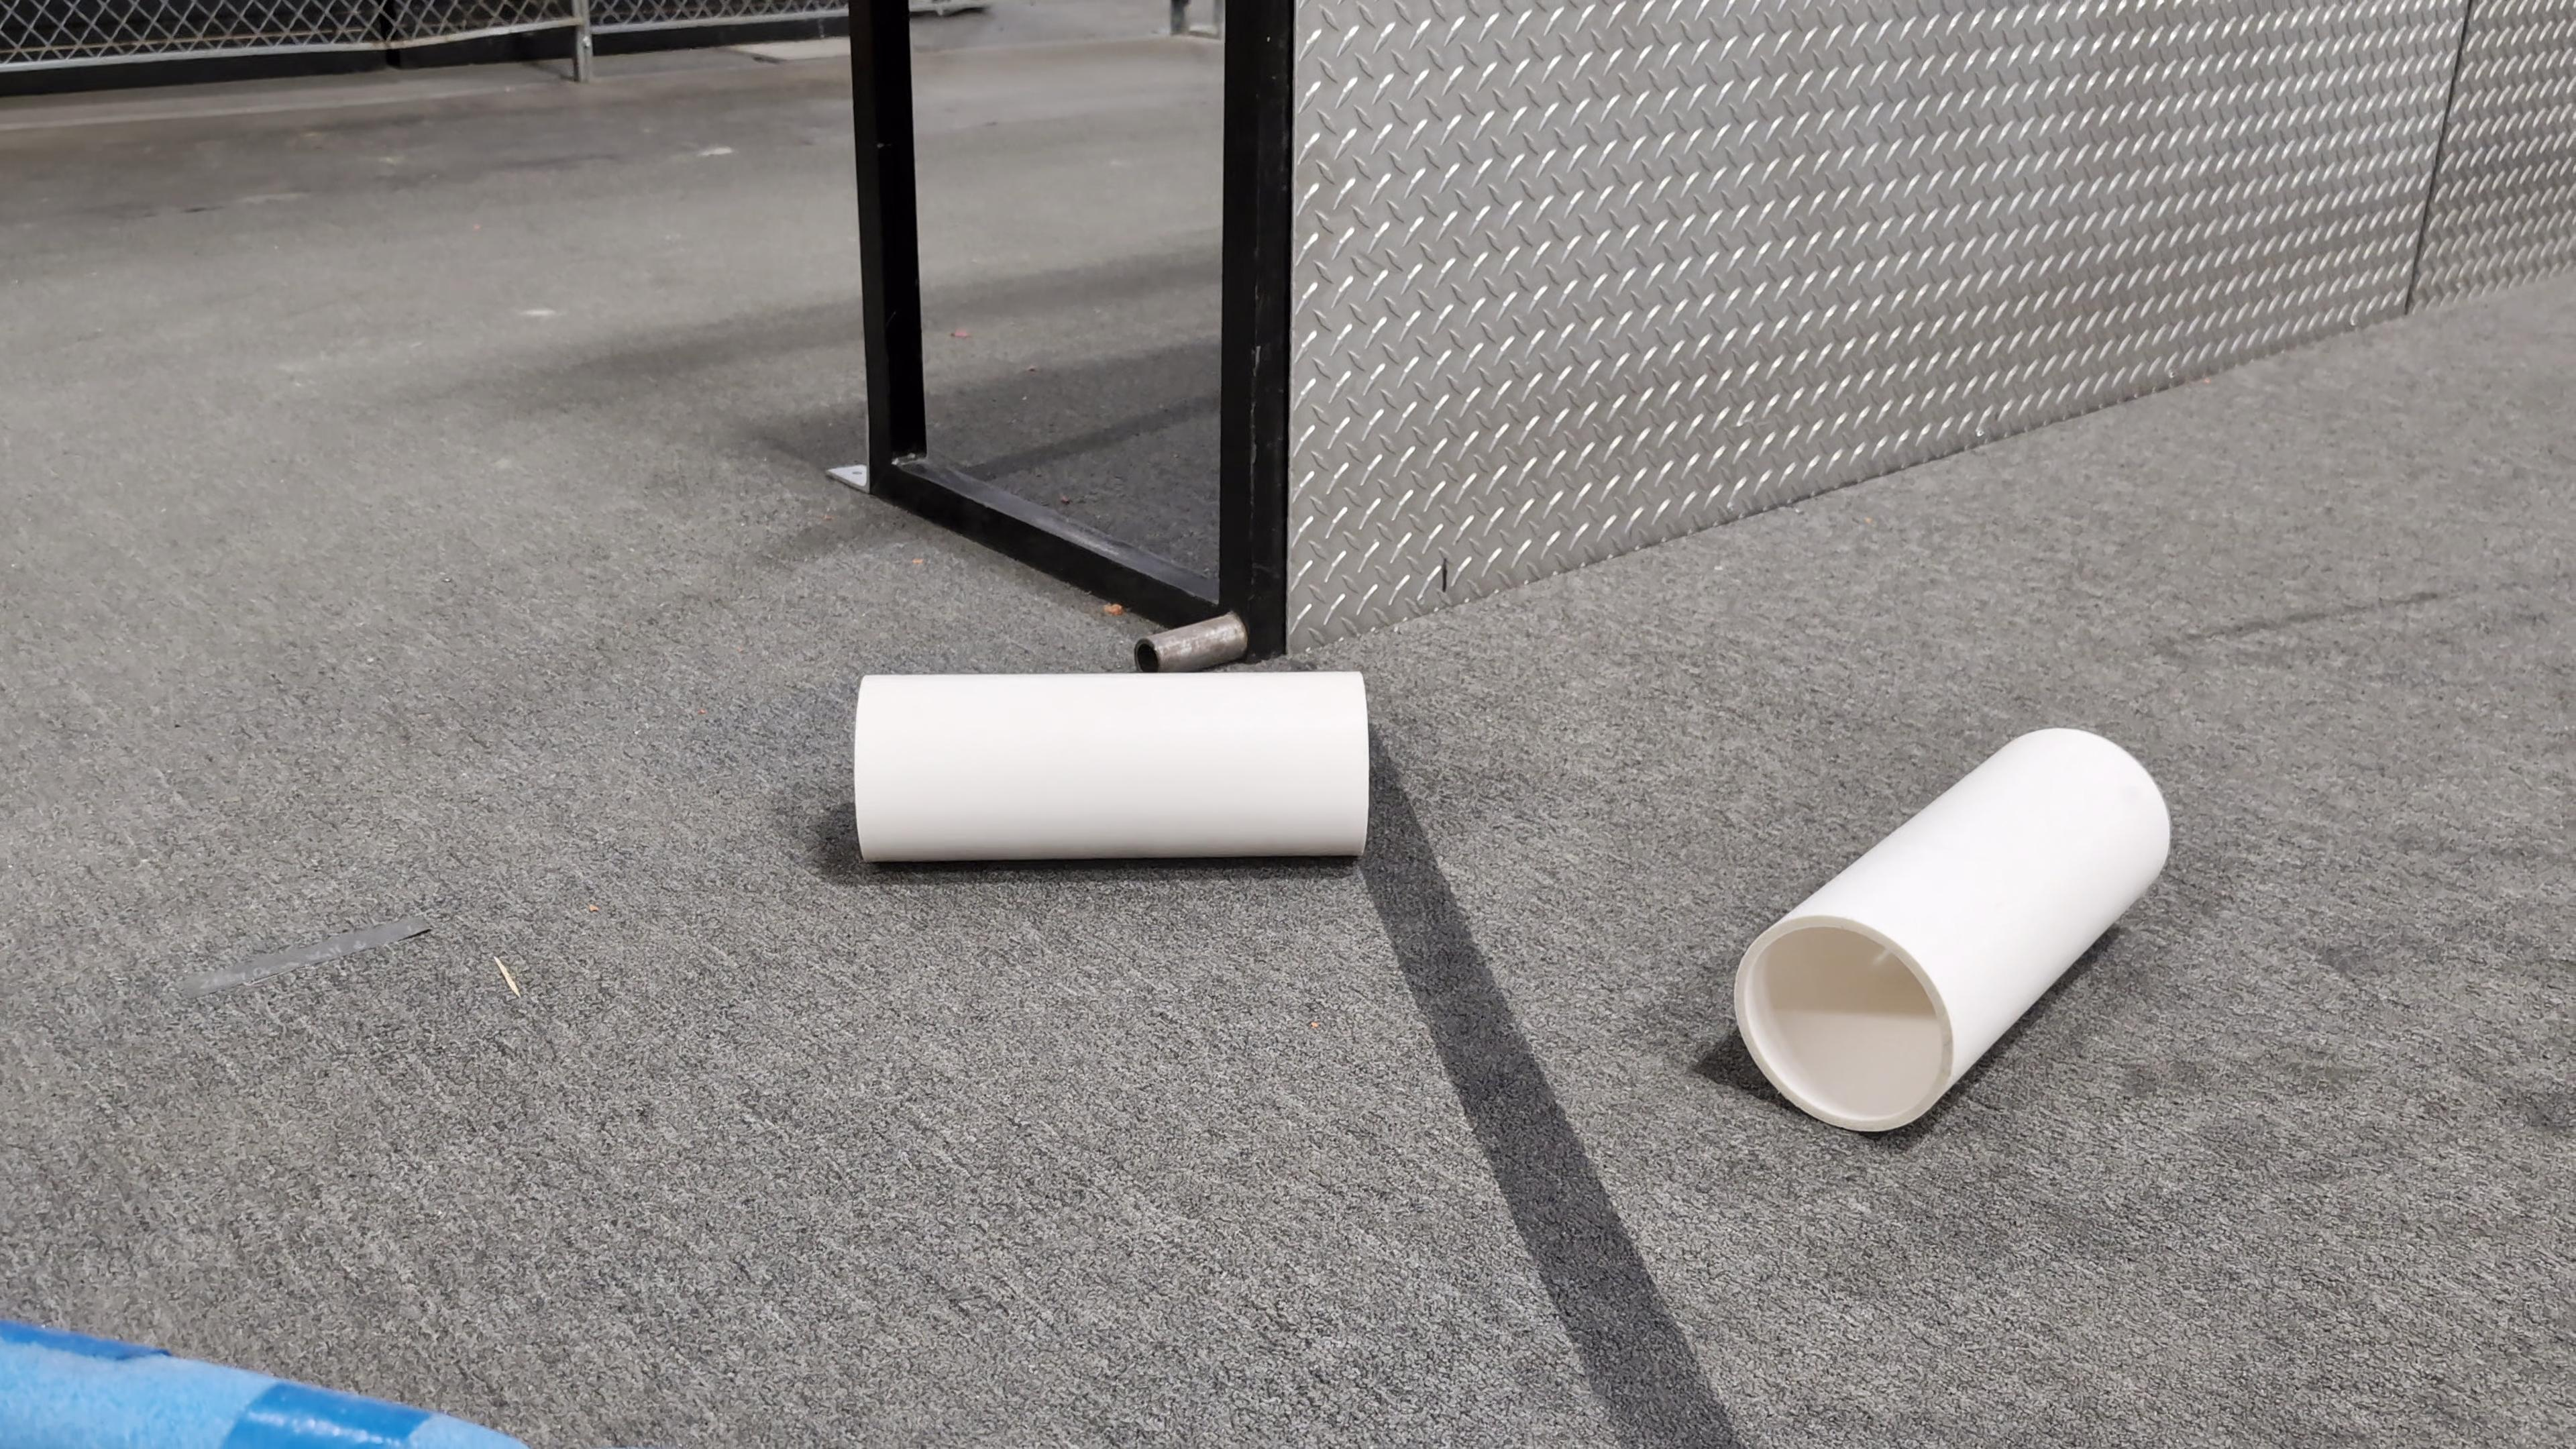coral: (1732, 722, 2173, 1131), (853, 660, 1375, 863)
